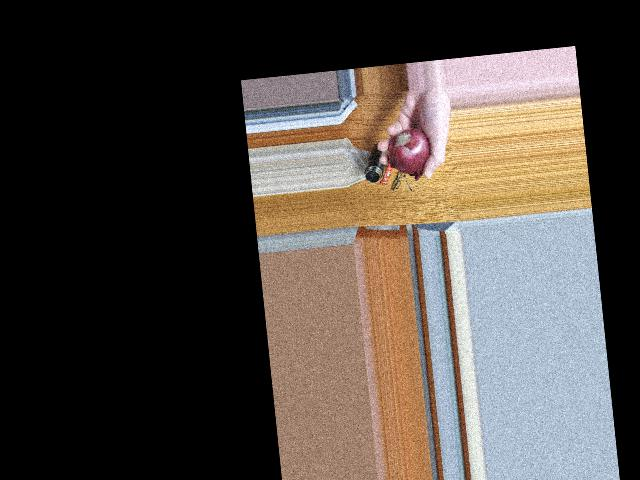onion: (387, 129, 431, 174)
